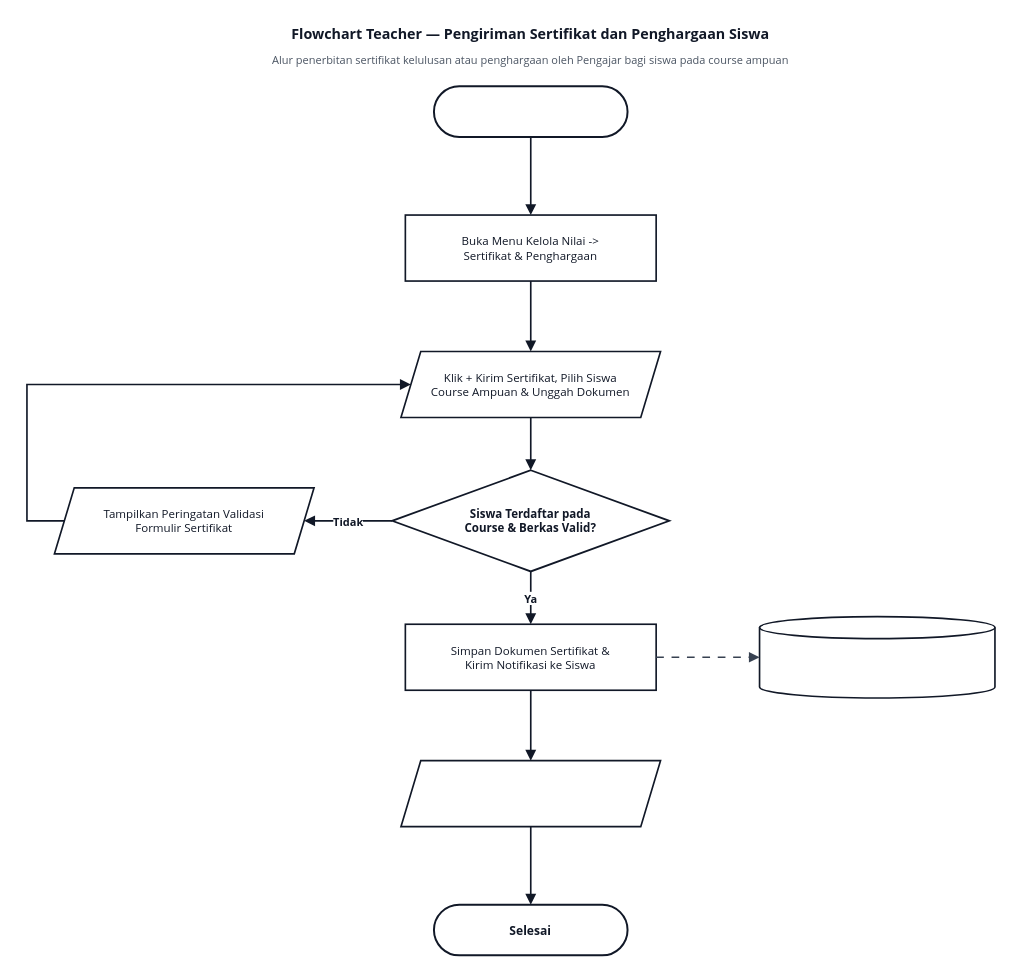
The diagram is 1015 pixels wide and 975 high, and some of its shapes have lost their labels. The shapes that lost their labels are listed below. From the top down, each one's centre as x and y in pixels, then its label:
the point at 530,111: Mulai
the point at 876,656: SQL Server: dbo.student_certificates & dbo.lms_notifications
the point at 530,793: Tampilkan Sertifikat Terkirim pada Daftar Sertifikat
